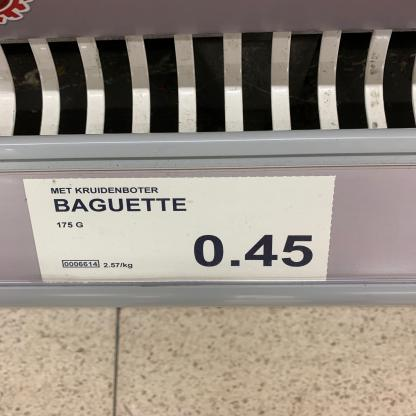prtg: (23, 177, 337, 284)
